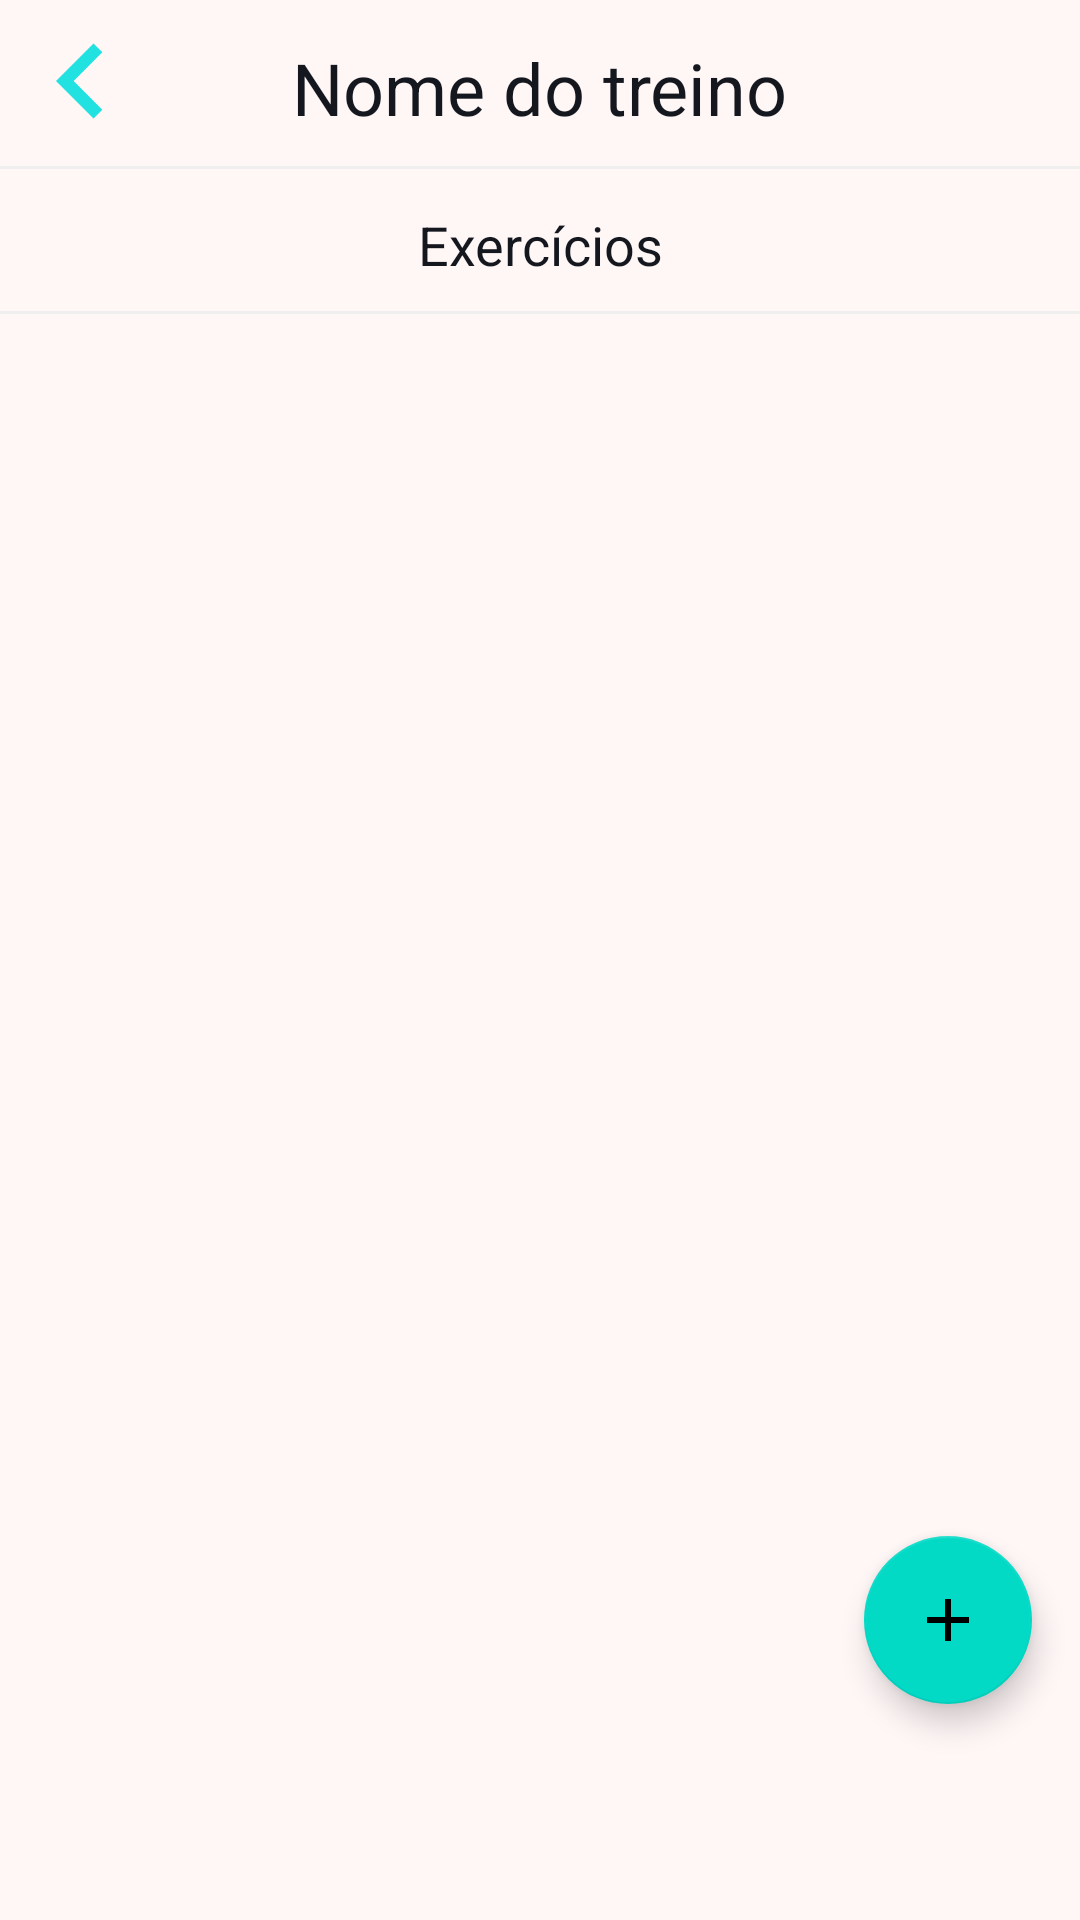

Icons on this 1080x1920 Android screen, each with the point to tap as (x=x, y=y):
add: (x=948, y=1620)
